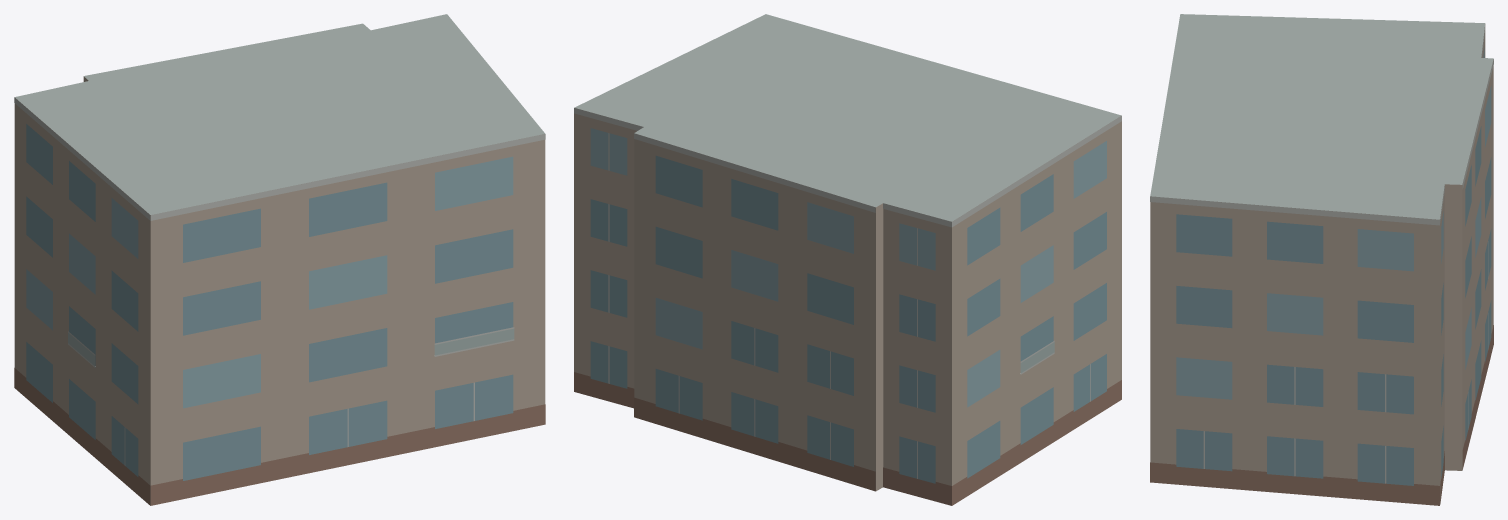
File: survey-upis-32581268.glb
3 renders of one model, left to right at view 1: azimuth 30°, elevation 25°; view 2: azimuth 150°, elevation 25°; view 3: azimuth 270°, elevation 25°, orthographic. The views are drawn at different scales.
Parts seen in each view (by area): view 1: survey-upis-32581268.tmp; view 2: survey-upis-32581268.tmp; view 3: survey-upis-32581268.tmp.
Boxes of the visible parts, x1,y1,x2,y2 form: survey-upis-32581268.tmp: (14, 14, 545, 505); survey-upis-32581268.tmp: (574, 14, 1121, 505); survey-upis-32581268.tmp: (1150, 14, 1493, 505).
Bounding box in the file's own units: 18.83 × 12.2 × 13.29.
